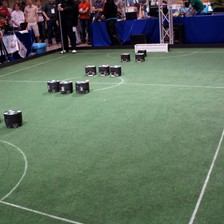goal: (133, 42, 169, 53)
robot: (2, 108, 23, 129), (59, 79, 74, 94), (74, 79, 89, 94), (45, 78, 59, 94), (83, 63, 97, 77), (109, 63, 122, 77), (97, 64, 110, 77), (119, 51, 131, 63), (134, 52, 145, 64)
